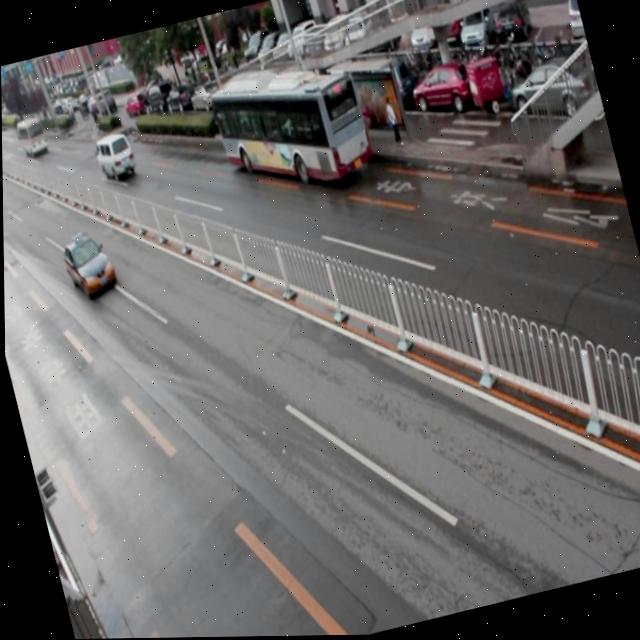car: (59, 227, 118, 299)
truck: (91, 129, 138, 184)
van: (207, 59, 374, 203)
